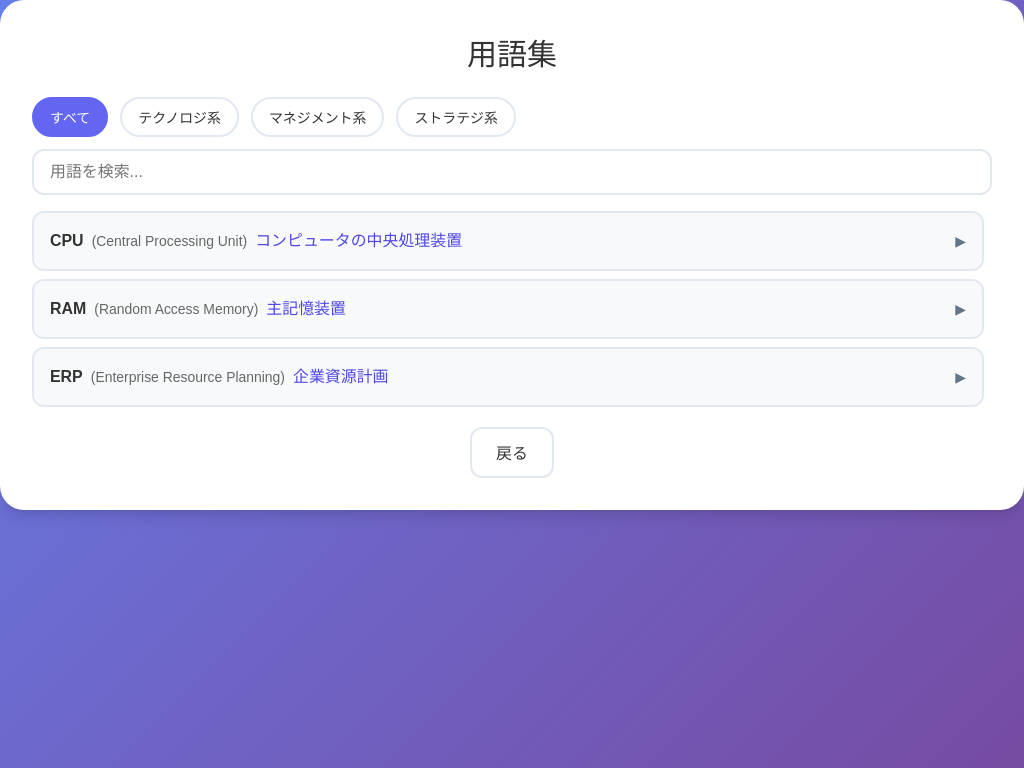
Test case: Glossary › transformExplanation › should apply transformExplanation to descriptions
Check: the text "CPU" is shown, box [50, 229, 84, 253]
Note: Expand a term
Click the text "コンピュータの中央処理装置" at x=359, y=240, box [255, 232, 462, 249]
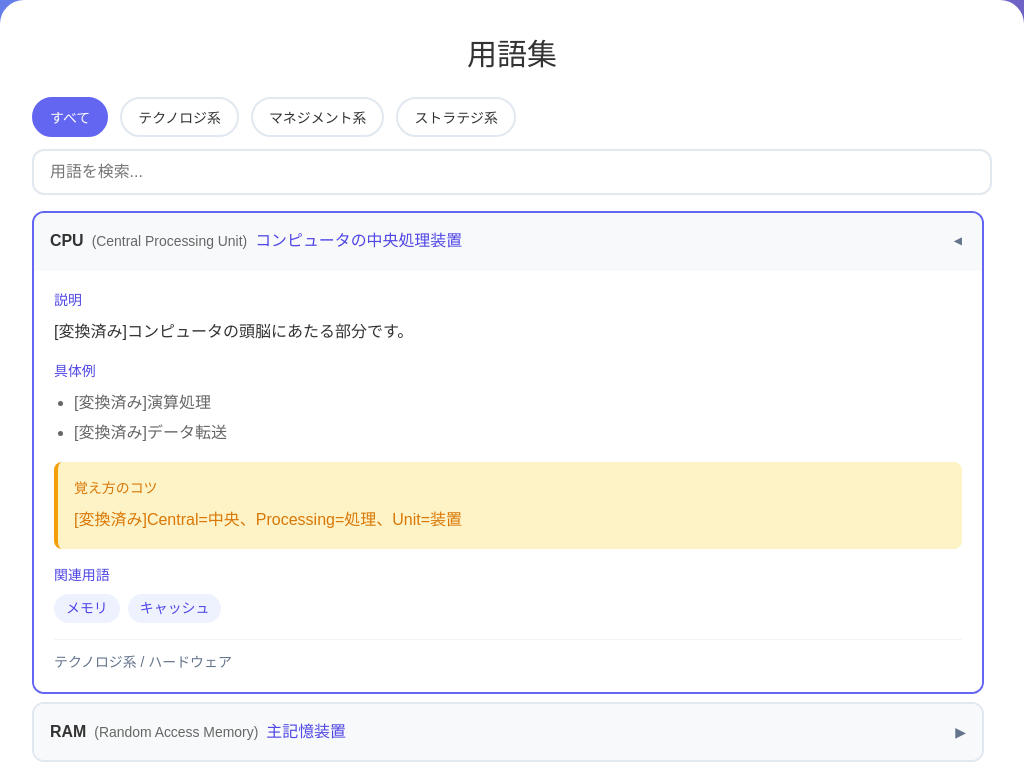
Check: the text "[変換済み]コンピュータの頭脳にあたる部分です。" is shown, box [54, 323, 413, 340]
